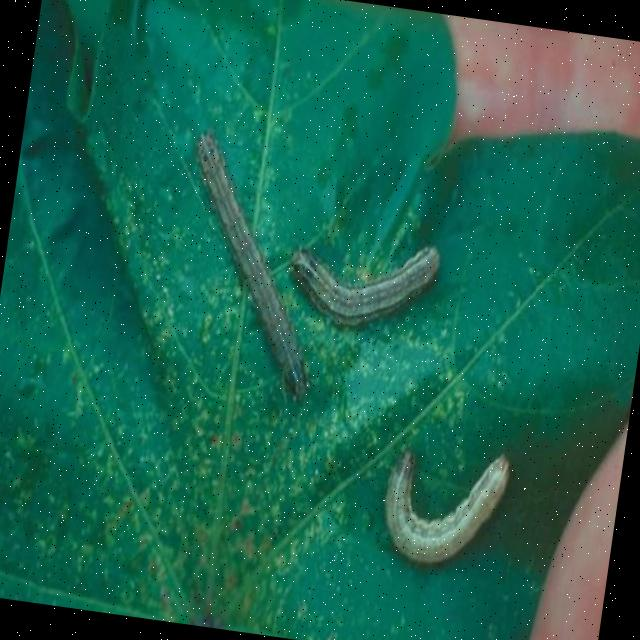worm: (162, 131, 345, 407), (376, 438, 514, 578), (282, 227, 444, 341)
